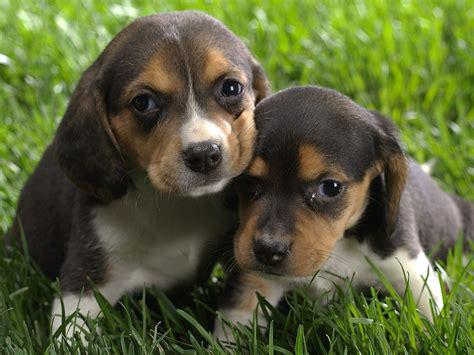dog: (18, 10, 266, 346), (210, 86, 462, 344)
